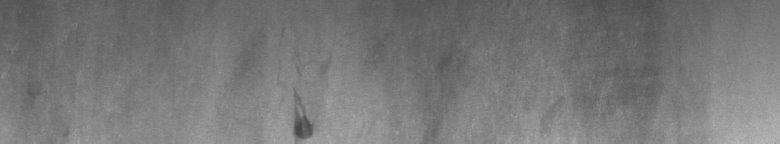fi: (288, 66, 320, 136)
